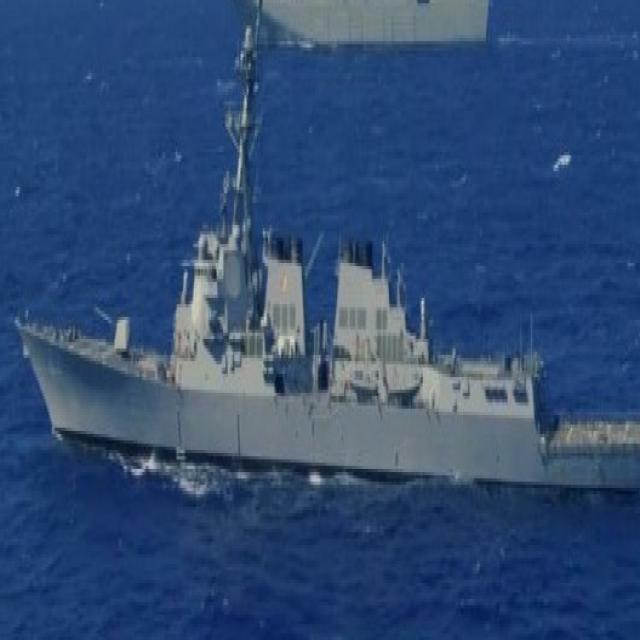navalvessels: (12, 108, 640, 507)
